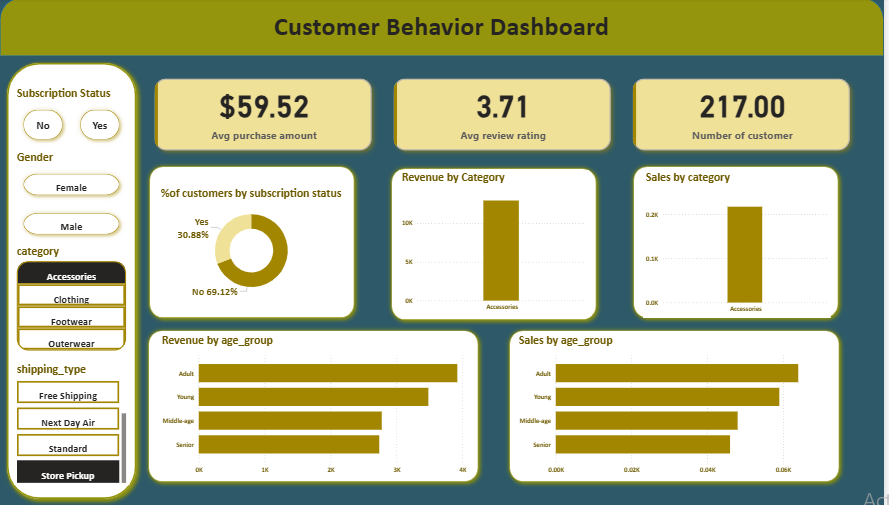

This screenshot's page, from the dashboard's own definition file:
{"tool":"powerbi","page":{"name":"Page 1","canvas":[1600,920],"ordinal":0},"visuals":[{"type":"cardVisual","fields":{"Data":["customer_behavior customer.Avd purchase amount","customer_behavior customer.Avg review rating","customer_behavior customer.Number of customer"]},"box":[259.6,125.5,1302.1,172.3],"z":0},{"type":"shape","box":[0,0,1600,105],"z":1000},{"type":"textbox","box":[159.6,16.8,1280.8,88.2],"z":2000},{"type":"shape","box":[1138.1,296.1,390.6,294],"z":3000},{"type":"shape","box":[699.4,298.2,390.6,294],"z":4000},{"type":"shape","box":[260.4,296.1,390.6,294],"z":5000},{"type":"donutChart","title":"%of customers by subscription status","fields":{"Y":["CountNonNull(customer_behavior customer.customer_id)"],"Category":["customer_behavior customer.subscription_status"]},"box":[285.6,340.2,338.1,207.9],"z":6000},{"type":"clusteredColumnChart","title":"Revenue by Category","fields":{"Category":["customer_behavior customer.category"],"Y":["Sum(customer_behavior customer.purchase_amount($))"]},"box":[722.3,310.8,344.4,264.6],"z":7000},{"type":"columnChart","title":"Sales by category","fields":{"Category":["customer_behavior customer.category"],"Y":["CountNonNull(customer_behavior customer.customer_id)"]},"box":[1163.8,310.6,340.4,268.1],"z":8000},{"type":"shape","box":[0,104.3,259.6,814.9],"z":9000},{"type":"advancedSlicerVisual","title":"Subscription Status","fields":{"Values":["customer_behavior customer.subscription_status"]},"box":[25.5,159.6,208.5,114.9],"z":10000},{"type":"advancedSlicerVisual","title":"Gender","fields":{"Values":["customer_behavior customer.gender"]},"box":[25.5,274.5,208.5,170.2],"z":11000},{"type":"advancedSlicerVisual","fields":{"Values":["customer_behavior customer.category"]},"box":[25.5,444.7,208.5,200],"z":12000},{"type":"advancedSlicerVisual","fields":{"Values":["customer_behavior customer.shipping_type"]},"box":[25.5,659.6,208.5,223.4],"z":13000},{"type":"shape","box":[912.8,591.5,617,293.6],"z":14000},{"type":"shape","box":[259.6,591.5,617,293.6],"z":15000},{"type":"clusteredBarChart","title":"Revenue by age_group","fields":{"Y":["Sum(customer_behavior customer.purchase_amount($))"],"Category":["customer_behavior customer.age_group"]},"box":[287.2,606.4,561.7,263.8],"z":16000},{"type":"clusteredBarChart","title":"Sales by age_group","fields":{"Category":["customer_behavior customer.age_group"],"Y":["CountNonNull(customer_behavior customer.customer_id)"]},"box":[934,606.4,572.3,263.8],"z":17000}]}

Visuals, with their boxes in screenshot pixels (x1, y1, x2, y2), scaled from the page's 1600x920 canvas onto the 889x505 screenshot:
cardVisual - customer_behavior customer.Avd purchase amount x customer_behavior customer.Avg review rating: [144,69,868,163]
shape: [0,0,888,58]
textbox: [89,9,800,58]
shape: [632,163,849,324]
shape: [389,164,606,325]
shape: [145,163,362,324]
"%of customers by subscription status" donutChart: [159,187,347,301]
"Revenue by Category" clusteredColumnChart: [401,171,593,316]
"Sales by category" columnChart: [647,170,836,318]
shape: [0,57,144,504]
"Subscription Status" advancedSlicerVisual: [14,88,130,151]
"Gender" advancedSlicerVisual: [14,151,130,244]
advancedSlicerVisual - customer_behavior customer.category: [14,244,130,354]
advancedSlicerVisual - customer_behavior customer.shipping_type: [14,362,130,485]
shape: [507,325,850,486]
shape: [144,325,487,486]
"Revenue by age_group" clusteredBarChart: [160,333,472,478]
"Sales by age_group" clusteredBarChart: [519,333,837,478]
